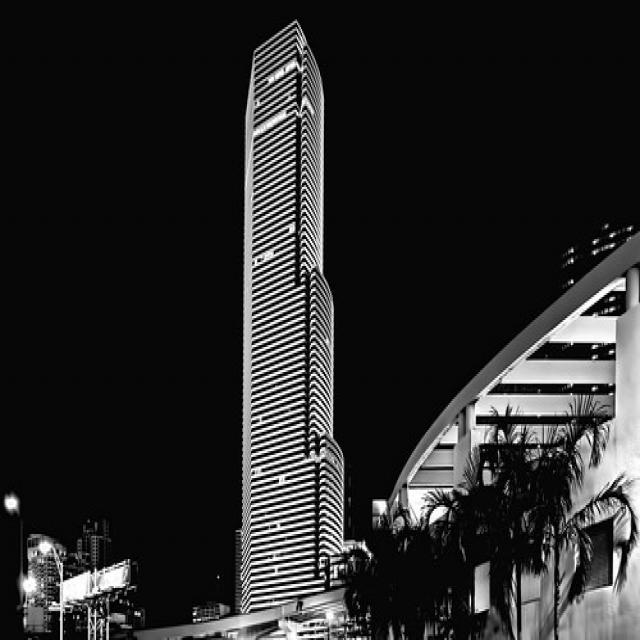Normal_building: (235, 15, 347, 617)
